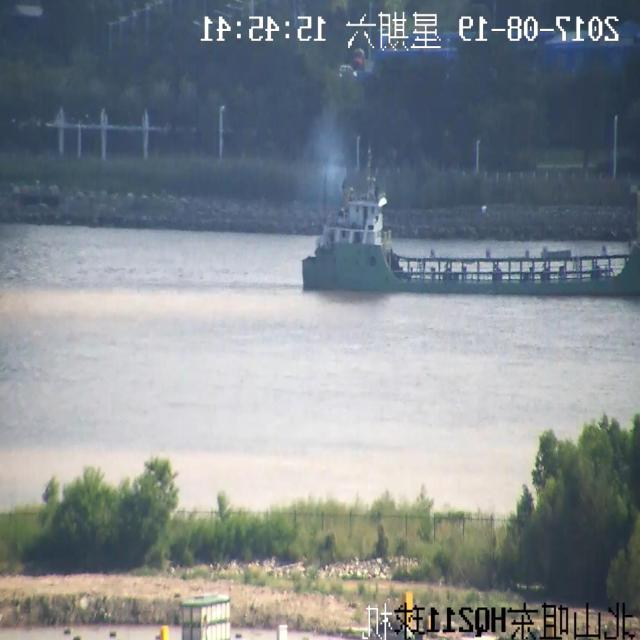houseboat: (285, 172, 640, 294)
